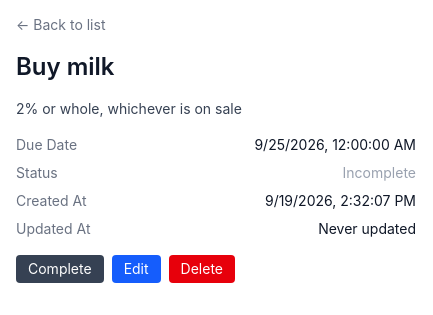
Test: TodoDetailRoute › returns to the read-only view with original values when Cancel is clicked, without submitting
Check: the heading "Buy milk" is shown, box x1=16 y1=52 x2=114 y2=81
Click the button "Edit": (136, 269) x1=112 y1=255 x2=161 y2=283
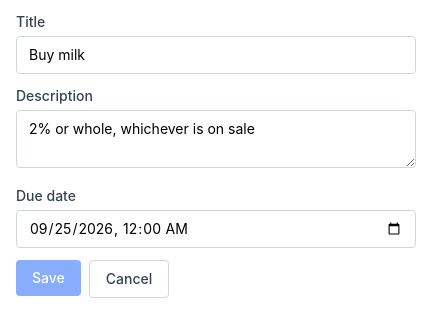
In the field labelled "Title": (216, 55) x1=16 y1=36 x2=416 y2=74, type "!"
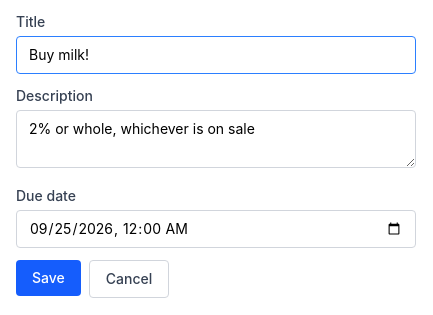
Click the button "Cancel": (129, 279) x1=89 y1=260 x2=169 y2=298
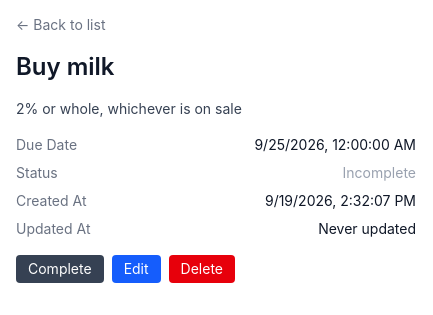
Check: the heading "Buy milk" is shown, box x1=16 y1=52 x2=114 y2=81
Check: the button "Edit" is shown, box x1=112 y1=255 x2=161 y2=283
